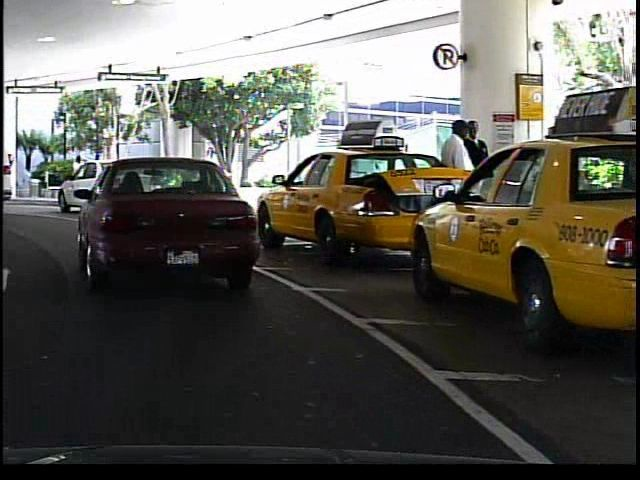person: (439, 117, 479, 243), (464, 116, 499, 238), (64, 152, 89, 197)
